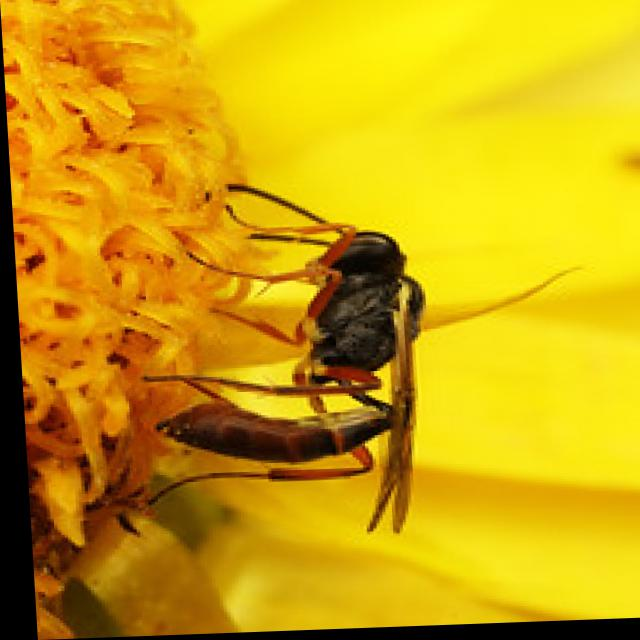Guepe: (124, 140, 577, 570)
